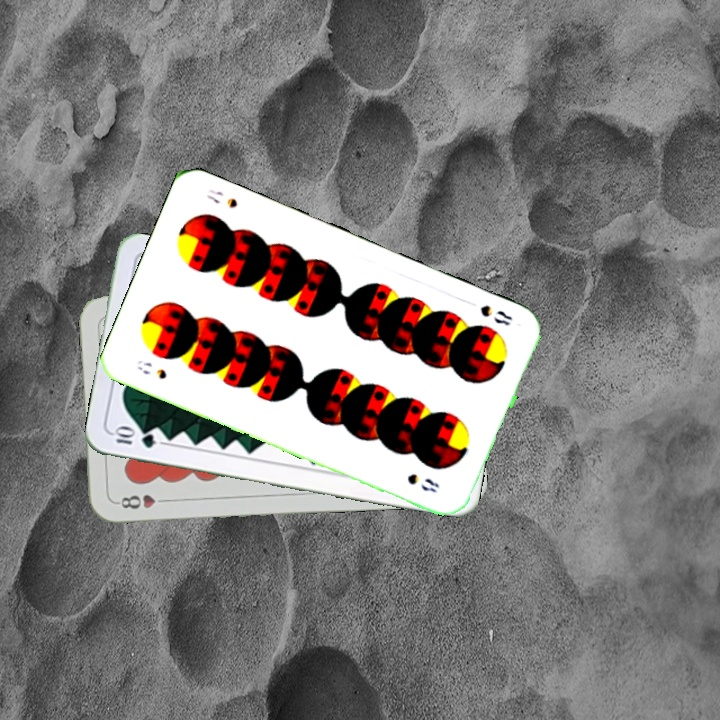G10: (109, 425, 158, 451)
H8: (112, 490, 171, 511)
S8: (476, 301, 515, 329), (133, 356, 170, 382)
